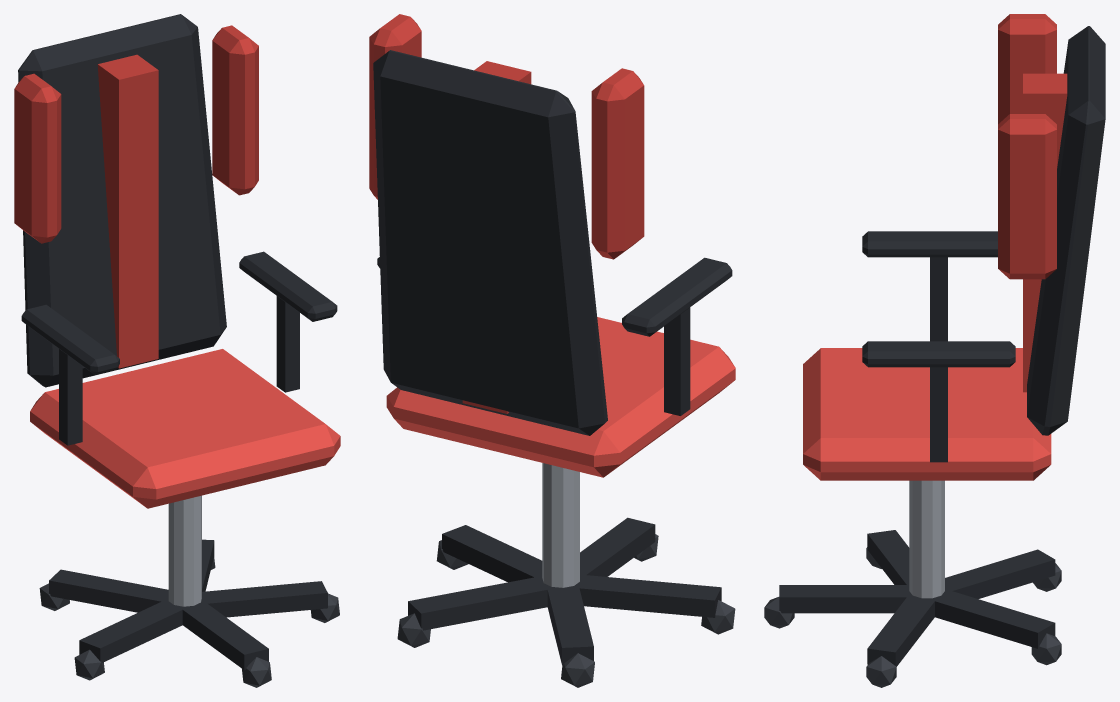
File: chair_p0_4.glb
3 renders of one model, left to right at view 1: azimuth 30°, elevation 25°; view 2: azimuth 150°, elevation 25°; view 3: azimuth 270°, elevation 25°, orthographic. The views are drawn at different scales.
Visible parts, largest first — view 1: chair_p0_4_mesh; view 2: chair_p0_4_mesh; view 3: chair_p0_4_mesh.
Part boxes in pixels (<box>): chair_p0_4_mesh: <box>14,14,340,687</box>; chair_p0_4_mesh: <box>369,14,735,687</box>; chair_p0_4_mesh: <box>764,14,1105,687</box>.
Bounding box in the file's own units: 0.6086 × 1.21 × 0.6642.
